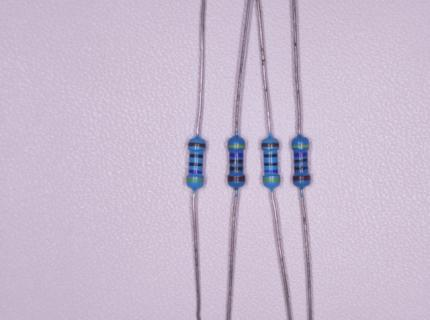Black band: (188, 161, 204, 167), (229, 158, 243, 164), (294, 166, 309, 171), (294, 159, 309, 164), (229, 166, 244, 171), (189, 153, 204, 158), (263, 154, 278, 158), (263, 162, 278, 166)
Brown band: (293, 174, 311, 182), (227, 175, 246, 182), (187, 142, 206, 148), (261, 142, 279, 148)
Violet band: (188, 169, 203, 175), (229, 152, 244, 158), (293, 152, 308, 157), (264, 169, 278, 173)
Yellow band: (262, 178, 281, 183), (227, 144, 246, 149), (186, 178, 205, 182), (292, 144, 310, 148)
